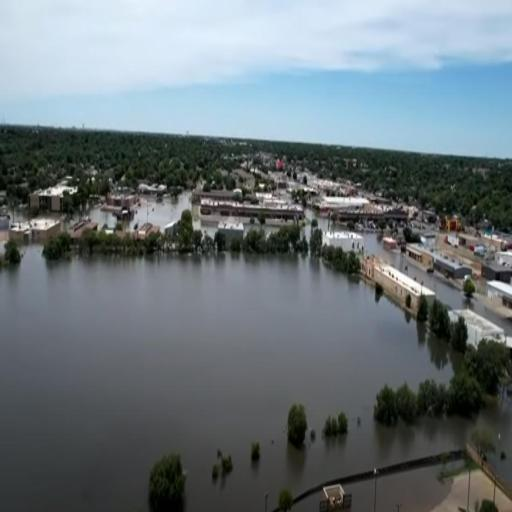flood: (0, 250, 512, 512), (327, 232, 476, 311), (376, 466, 452, 512), (121, 190, 192, 230), (37, 202, 114, 228), (193, 205, 251, 238), (472, 291, 512, 335), (344, 476, 375, 512), (292, 492, 322, 512), (305, 209, 328, 233), (265, 228, 284, 237), (300, 223, 310, 240), (253, 214, 260, 225)
house: (374, 258, 436, 330), (192, 190, 306, 229), (448, 299, 506, 368), (432, 248, 474, 280), (9, 216, 60, 242), (101, 193, 141, 221), (30, 186, 64, 214), (486, 278, 512, 312), (216, 222, 247, 245), (483, 258, 512, 282), (325, 230, 363, 248), (134, 220, 160, 242), (164, 220, 177, 242)
